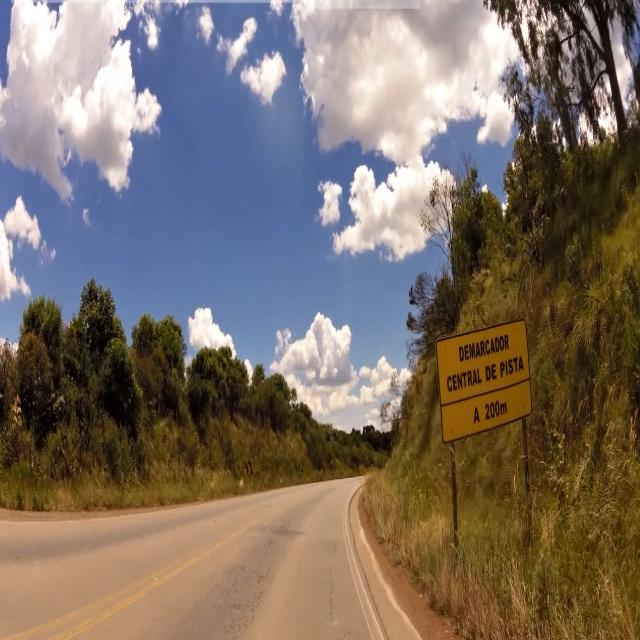ESP-20: (433, 318, 533, 444)
